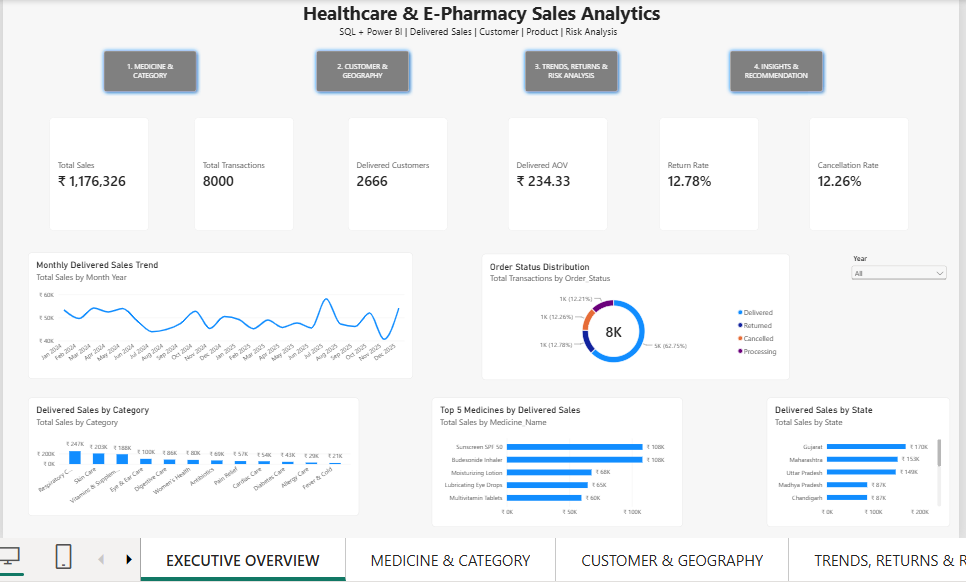

This screenshot's page, from the dashboard's own definition file:
{"tool":"powerbi","page":{"name":"EXECUTIVE OVERVIEW","canvas":[1920,1080],"ordinal":0},"visuals":[{"type":"textbox","box":[574.3,0,771.3,72.8],"z":0},{"type":"textbox","box":[675.3,49.7,569.4,43],"z":1000},{"type":"cardVisual","fields":{"Data":["Date_Table.Total Sales"]},"box":[92.5,235.6,200,227],"z":2000},{"type":"cardVisual","fields":{"Data":["Date_Table.Total Transactions"]},"box":[383.1,235.6,200,227],"z":3000},{"type":"cardVisual","fields":{"Data":["Date_Table.Delivered Customers"]},"box":[691.4,235.6,200,227],"z":4000},{"type":"cardVisual","fields":{"Data":["Date_Table.Delivered AOV"]},"box":[1012.8,235.6,200,227],"z":5000},{"type":"cardVisual","fields":{"Data":["Date_Table.Return Rate"]},"box":[1316.7,235.6,200,227],"z":6000},{"type":"cardVisual","fields":{"Data":["Date_Table.Cancellation Rate"]},"box":[1618.3,235.6,200,227],"z":7000},{"type":"lineChart","title":"Monthly Delivered Sales Trend","fields":{"Category":["Date_Table.Month Year"],"Y":["Date_Table.Total Sales"]},"box":[50.6,506.4,772.8,253.2],"z":8000},{"type":"clusteredColumnChart","title":"Delivered Sales by Category","fields":{"Category":["apollo_healthcare.Category"],"Y":["Date_Table.Total Sales"]},"box":[50.6,797.1,665,237.8],"z":9000},{"type":"donutChart","title":"Order Status Distribution","fields":{"Category":["apollo_healthcare.Order_Status"],"Y":["Date_Table.Total Transactions"]},"box":[960,508.6,618.7,253.2],"z":10000},{"type":"clusteredBarChart","title":"Top 5 Medicines by Delivered Sales","fields":{"Category":["apollo_healthcare.Medicine_Name"],"Y":["Date_Table.Total Sales"]},"box":[860.9,797.1,504.2,259.8],"z":11000},{"type":"slicer","fields":{"Values":["Date_Table.Year"]},"box":[1699.8,508.6,200,253],"z":12000},{"type":"clusteredBarChart","title":"Delivered Sales by State","fields":{"Category":["apollo_healthcare.State"],"Y":["Date_Table.Total Sales"]},"box":[1532.5,797.1,367.7,259.8],"z":13000},{"type":"actionButton","box":[193.1,92.6,204,100],"z":14000},{"type":"actionButton","box":[618.8,92.6,204,100],"z":15000},{"type":"actionButton","box":[1039.3,92.6,204,100],"z":16000},{"type":"actionButton","box":[1449.3,92.6,204,100],"z":16001}]}

Visuals, with their boxes on the page's 1920x1080 design canvas (x1, y1, x2, y2). These are canvas units, not pixel positions in the 966x582 screenshot, which may show the page scaled, cropped or inside an application window:
textbox: BBox(574, 0, 1346, 73)
textbox: BBox(675, 50, 1245, 93)
cardVisual - Date_Table.Total Sales: BBox(92, 236, 292, 463)
cardVisual - Date_Table.Total Transactions: BBox(383, 236, 583, 463)
cardVisual - Date_Table.Delivered Customers: BBox(691, 236, 891, 463)
cardVisual - Date_Table.Delivered AOV: BBox(1013, 236, 1213, 463)
cardVisual - Date_Table.Return Rate: BBox(1317, 236, 1517, 463)
cardVisual - Date_Table.Cancellation Rate: BBox(1618, 236, 1818, 463)
"Monthly Delivered Sales Trend" lineChart: BBox(51, 506, 823, 760)
"Delivered Sales by Category" clusteredColumnChart: BBox(51, 797, 716, 1035)
"Order Status Distribution" donutChart: BBox(960, 509, 1579, 762)
"Top 5 Medicines by Delivered Sales" clusteredBarChart: BBox(861, 797, 1365, 1057)
slicer - Date_Table.Year: BBox(1700, 509, 1900, 762)
"Delivered Sales by State" clusteredBarChart: BBox(1532, 797, 1900, 1057)
actionButton: BBox(193, 93, 397, 193)
actionButton: BBox(619, 93, 823, 193)
actionButton: BBox(1039, 93, 1243, 193)
actionButton: BBox(1449, 93, 1653, 193)
